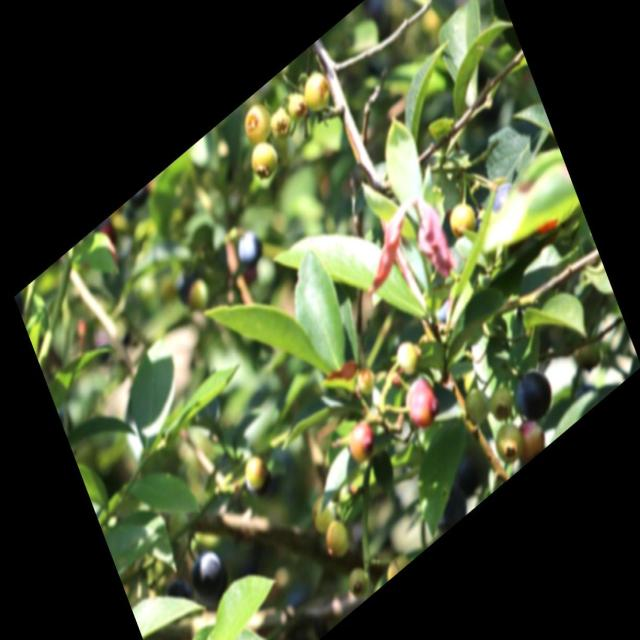blueberry: (184, 542, 233, 617), (508, 359, 558, 432), (484, 173, 520, 221), (232, 224, 265, 272)
blueberry-halfripe: (338, 412, 381, 474), (401, 372, 442, 434), (508, 409, 551, 465)
blueberry-unripe: (487, 411, 528, 472), (245, 126, 284, 184), (299, 62, 335, 118), (444, 191, 480, 245), (238, 95, 275, 147), (236, 447, 272, 500), (305, 486, 339, 540), (391, 333, 424, 383), (319, 512, 351, 562), (265, 96, 297, 144), (459, 379, 491, 427), (484, 379, 516, 426), (344, 561, 374, 606), (280, 84, 310, 128), (380, 542, 412, 580), (351, 362, 378, 400)
